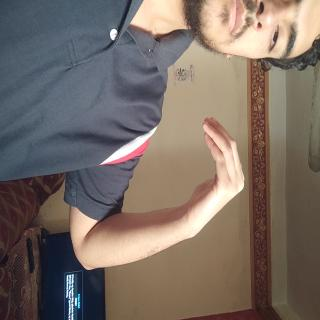HAA: (86, 92, 180, 198)
